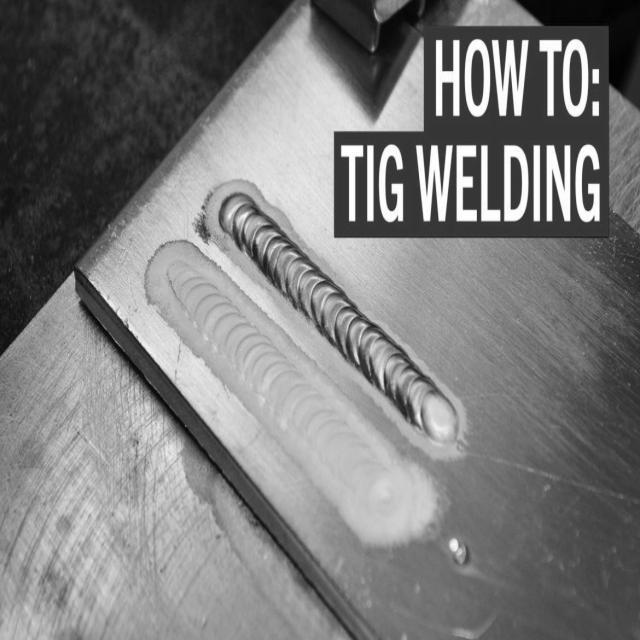Good Welding: (320, 249, 434, 384), (238, 194, 310, 286)
